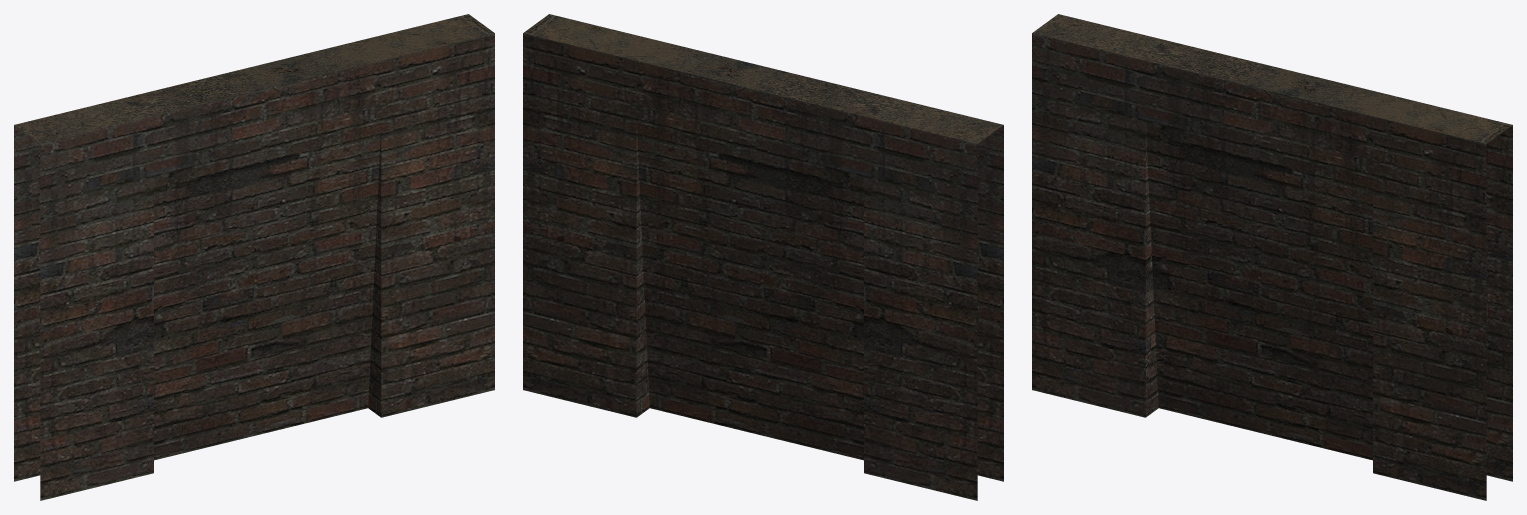
The model's file is wall_hs_1_t_2.dae.
3 renders of one model, left to right at view 1: azimuth 30°, elevation 25°; view 2: azimuth 150°, elevation 25°; view 3: azimuth 330°, elevation 25°, orthographic.
Parts seen in each view (by area): view 1: wall_hs_1_t_2; view 2: wall_hs_1_t_2; view 3: wall_hs_1_t_2.
Part boxes in pixels (<box>): wall_hs_1_t_2: <box>14,14,494,500</box>; wall_hs_1_t_2: <box>523,14,1003,500</box>; wall_hs_1_t_2: <box>1032,14,1512,500</box>.
Bounding box in the file's own units: 4 × 0.4 × 3.
2 materials, 2 textured.
